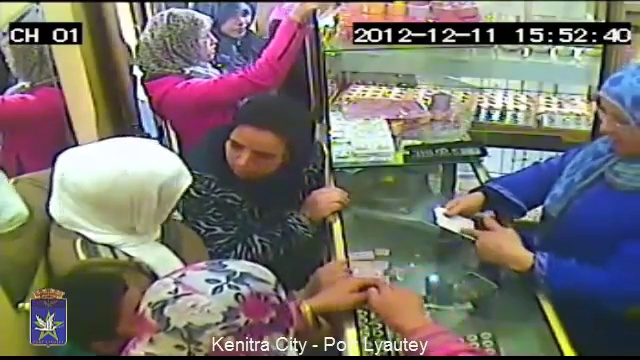face: (226, 122, 288, 182), (594, 94, 637, 154), (221, 4, 255, 39)
